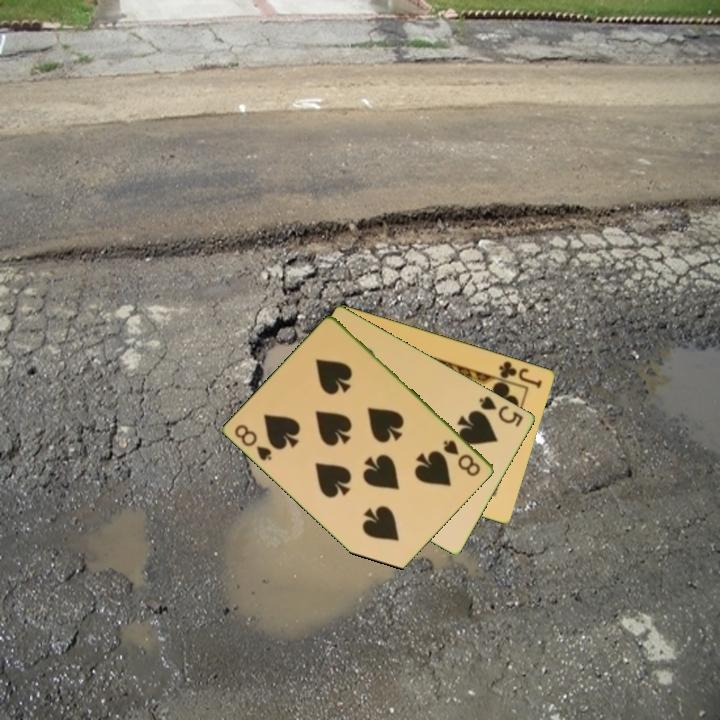5s: (475, 392, 526, 430)
8s: (231, 421, 275, 464), (440, 436, 483, 479)
Jc: (496, 357, 545, 391)
